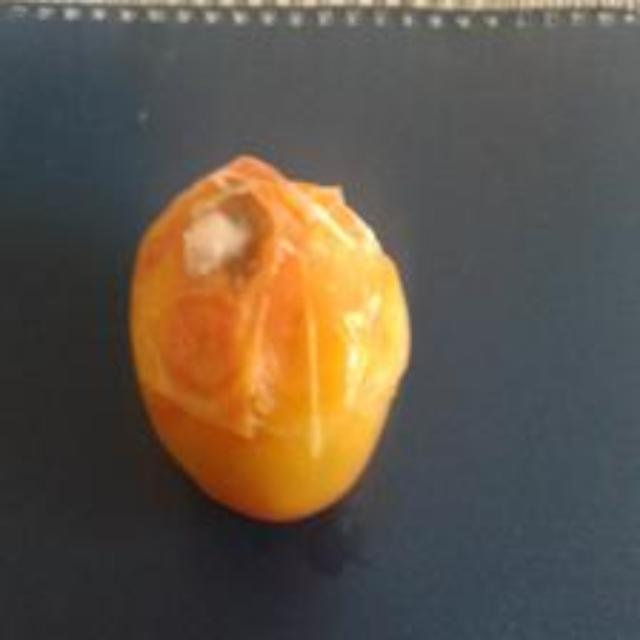defect: (120, 150, 416, 527)
